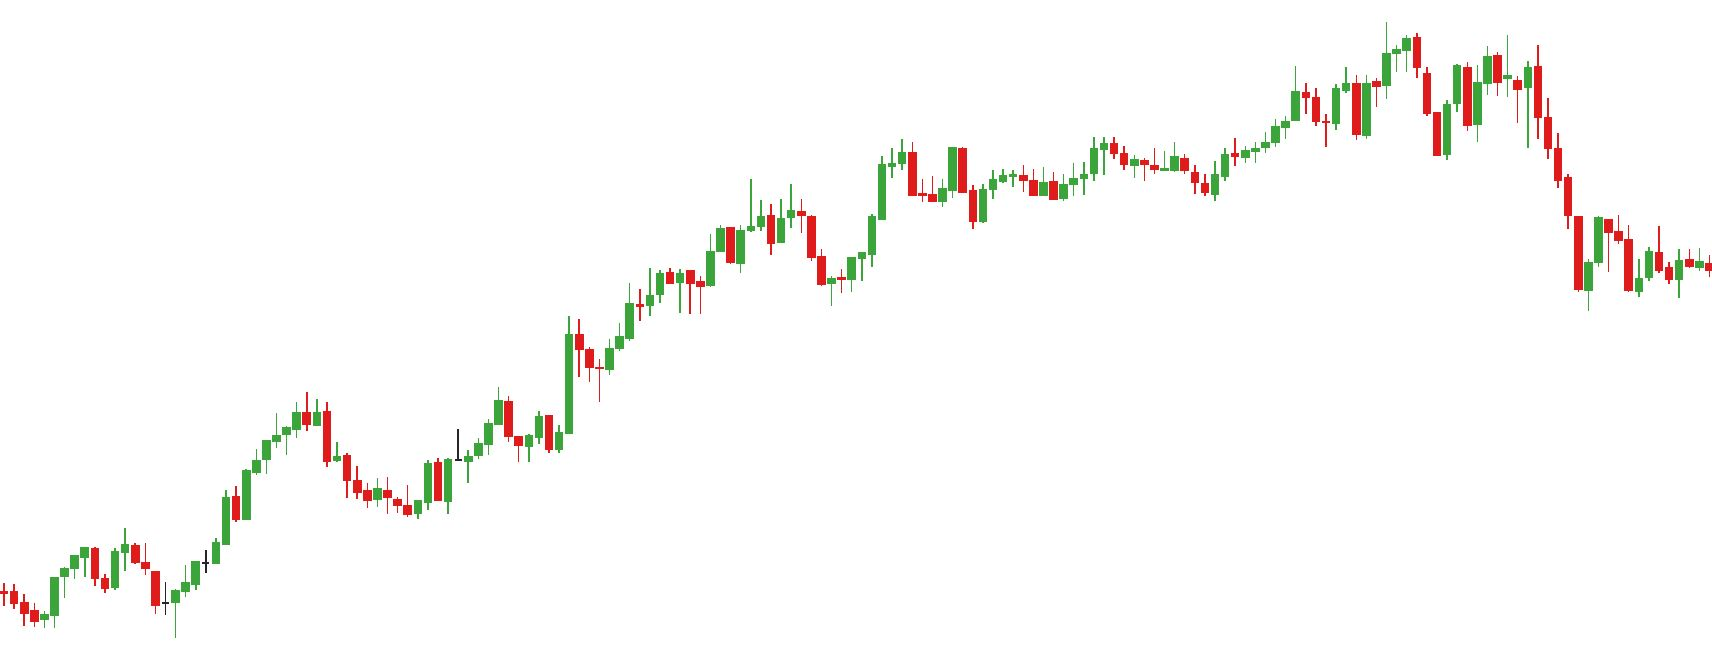buy: (733, 209, 859, 309), (1350, 72, 1453, 166), (100, 553, 180, 640)
